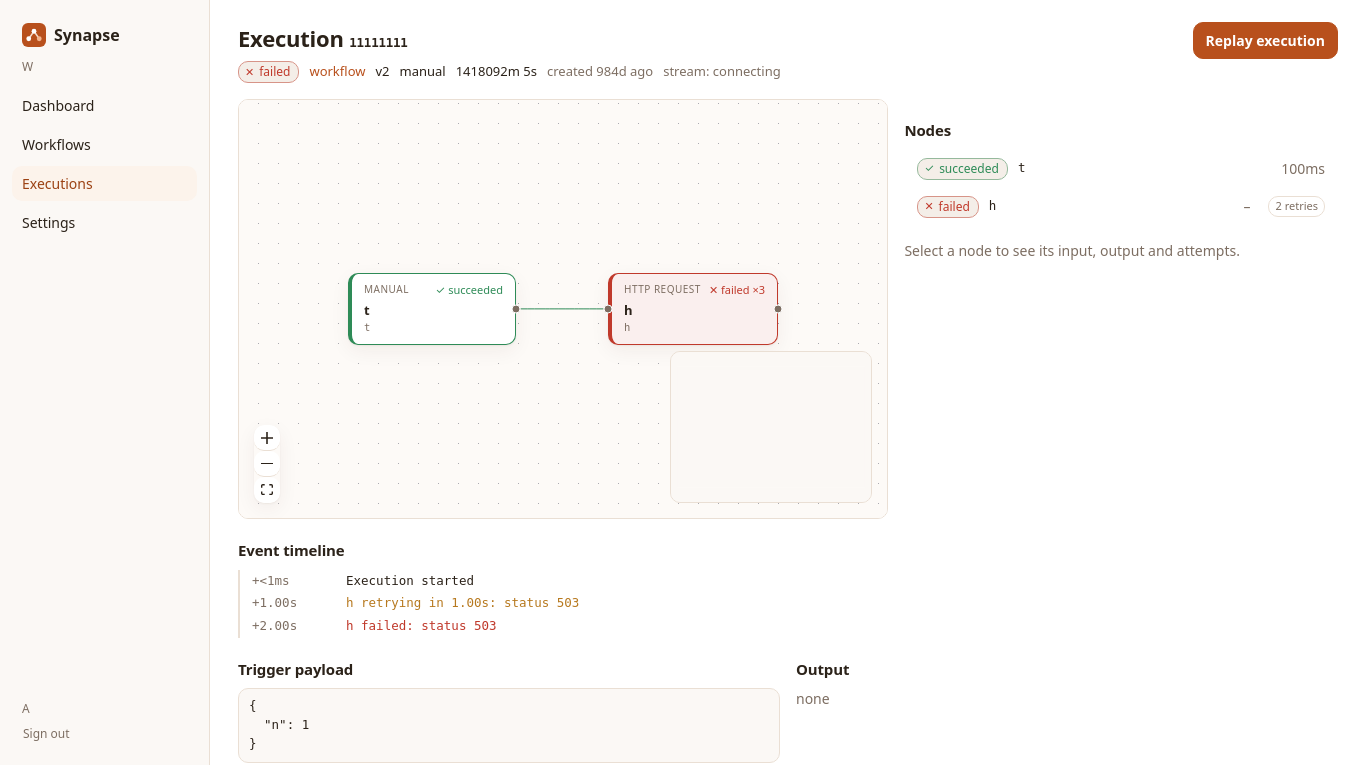
ExecutionDetail › shows the node list, timeline, error and retry history
The image size is (1366, 765).
Expected: the heading "Execution 11111111" is shown, [238,23,408,53]
Click the button "✕ failed h – 2 retries": click(948, 206) [904,188,1338,226]
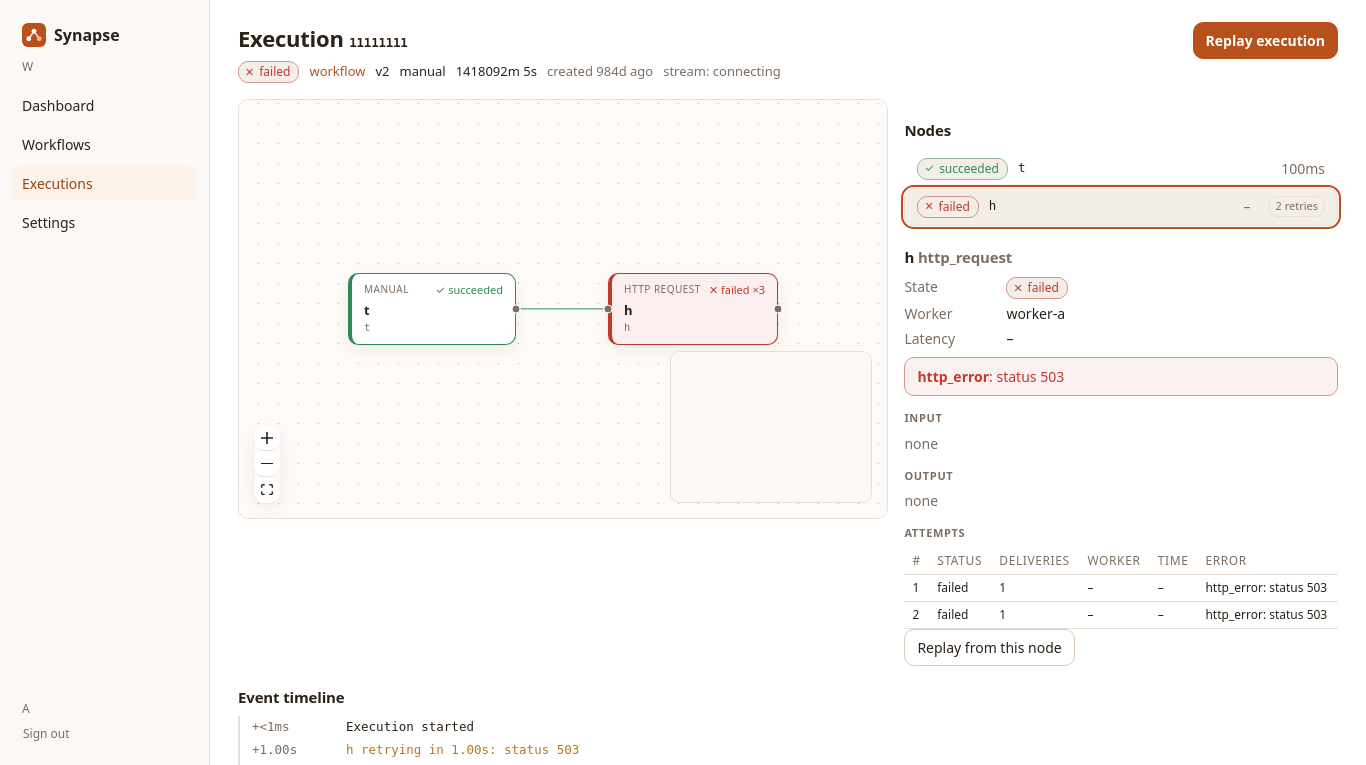
Expected: the heading "Attempts" is shown, [904,525,965,540]
Expected: the text "http_error" is shown, [917,367,989,386]
Expected: the text "worker-a" is shown, [1006,304,1065,323]
